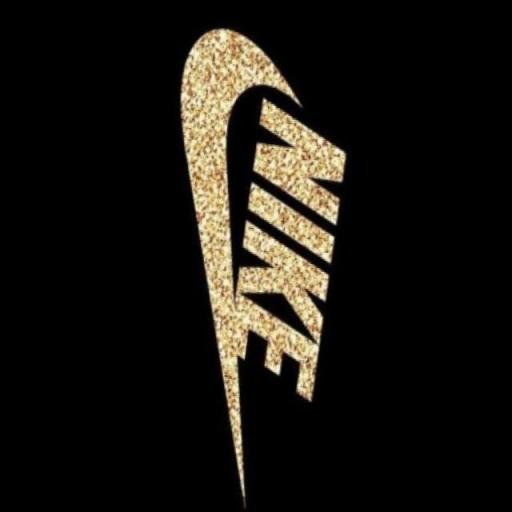Nike: (129, 20, 296, 446), (216, 96, 354, 408)
